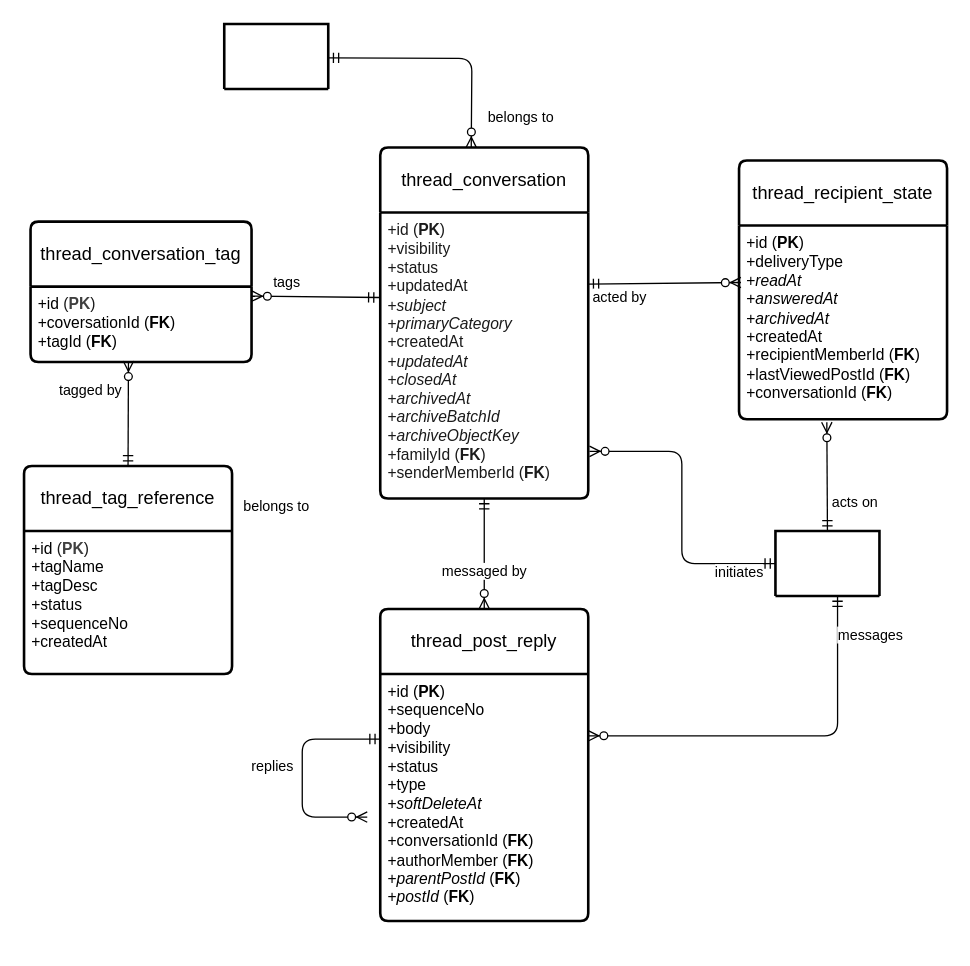
This 970x966 diagram has some shape labels left out. The shapes that lost their labels are listed below. From the top down, each one's centre as x and y in pixels, then its label:
At (275,56): "family".
At (827,563): "member".
